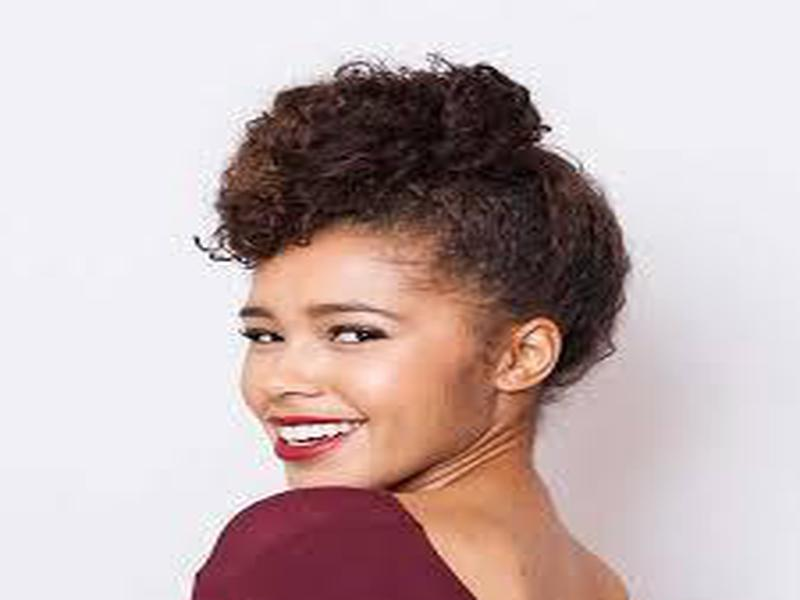without_mask: (217, 231, 538, 484)
